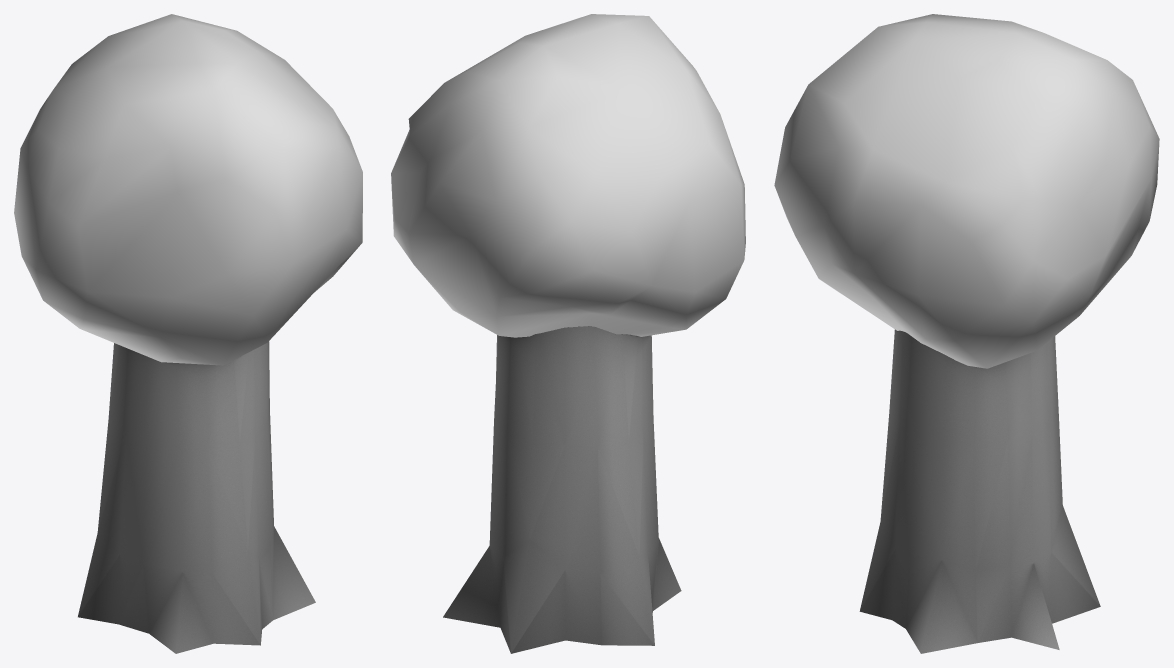
Rendered from tree.fbx.
3 renders of one model, left to right at view 1: azimuth 30°, elevation 25°; view 2: azimuth 150°, elevation 25°; view 3: azimuth 270°, elevation 25°, orthographic.
Parts seen in each view (by area): view 1: Icosphere, Cylinder; view 2: Icosphere, Cylinder; view 3: Icosphere, Cylinder.
Boxes of the visible parts, x1=… form: Icosphere: x1=14, y1=14, x2=362, y2=365; Cylinder: x1=78, y1=341, x2=315, y2=653; Icosphere: x1=391, y1=14, x2=745, y2=337; Cylinder: x1=443, y1=326, x2=681, y2=653; Icosphere: x1=774, y1=14, x2=1159, y2=368; Cylinder: x1=859, y1=329, x2=1100, y2=653.
Size of the model in its own units: 483 by 824 by 498.
